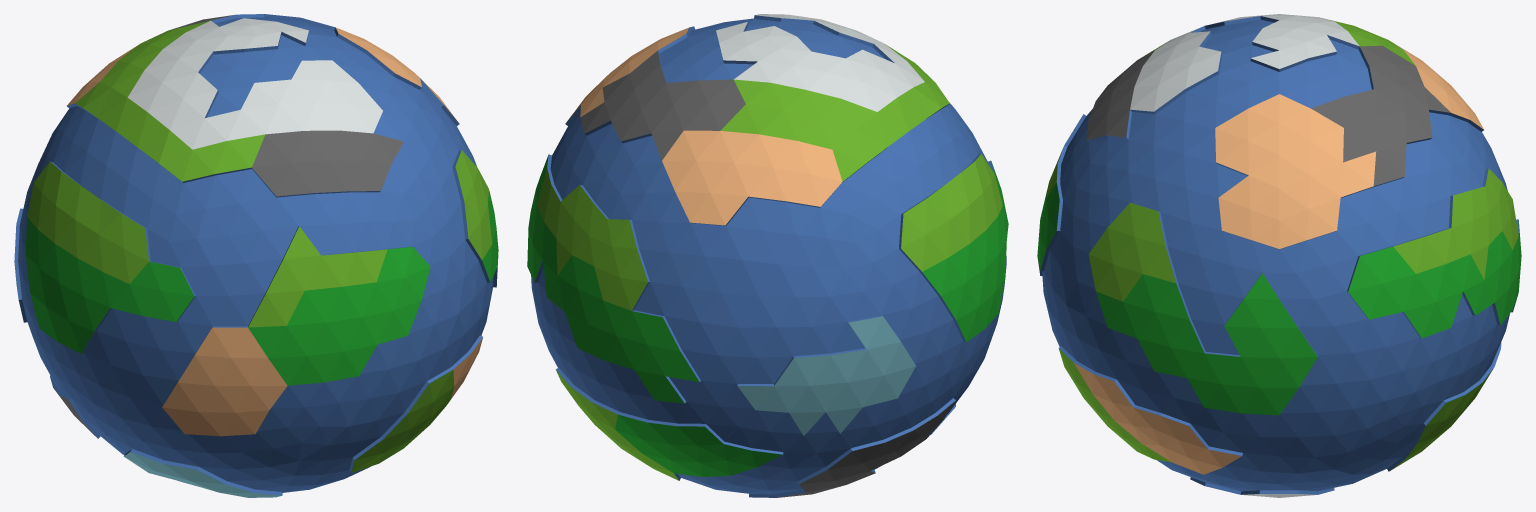
The model's file is pseudo_earth.fbx.
The picture shows the model from 3 angles, left to right: view 1: azimuth 30°, elevation 25°; view 2: azimuth 150°, elevation 25°; view 3: azimuth 270°, elevation 25°; orthographic projection.
Parts seen in each view (by area): view 1: Icosphere; view 2: Icosphere; view 3: Icosphere.
Boxes of the visible parts, x1=… form: Icosphere: x1=14, y1=14, x2=498, y2=497; Icosphere: x1=527, y1=14, x2=1008, y2=497; Icosphere: x1=1037, y1=14, x2=1521, y2=497.
Bounding box in the file's own units: 203 × 202 × 203.
